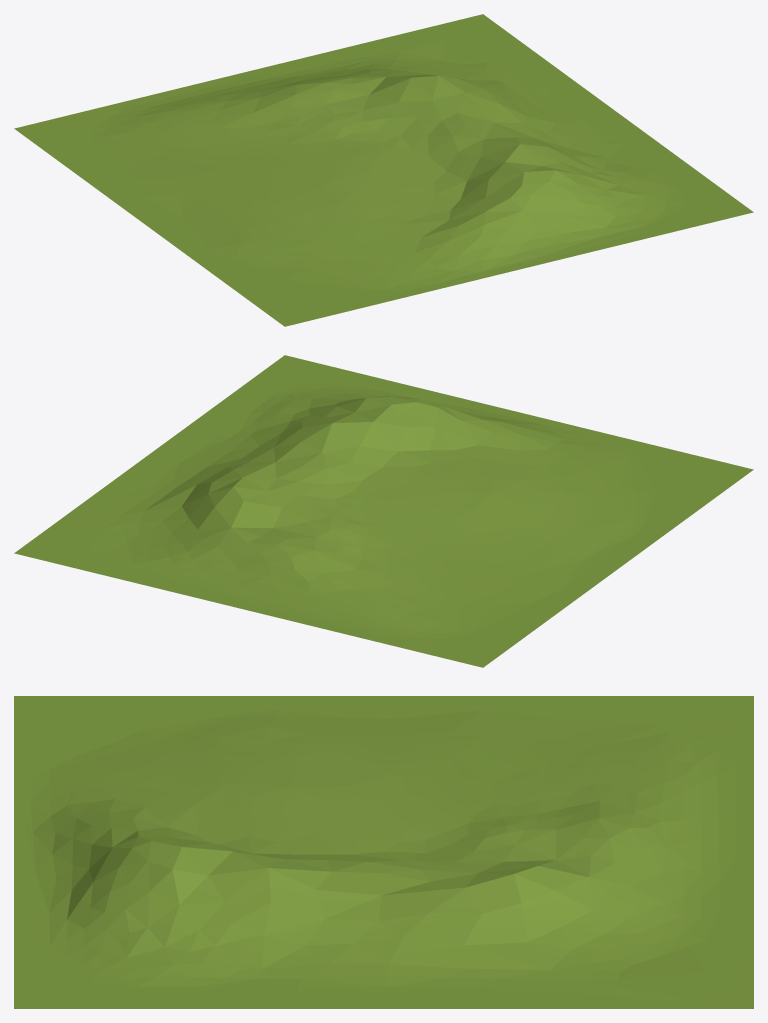
File: Mesh_Landscape_Terrain_07.FBX
The picture shows the model from 3 angles, top to bottom: view 1: azimuth 30°, elevation 25°; view 2: azimuth 150°, elevation 25°; view 3: azimuth 270°, elevation 25°; orthographic projection. The views are drawn at different scales.
Visible parts, largest first — view 1: Mesh_Landscape_Terrain_07; view 2: Mesh_Landscape_Terrain_07; view 3: Mesh_Landscape_Terrain_07.
Boxes of the visible parts, <box> form: Mesh_Landscape_Terrain_07: <box>14,14,753,326</box>; Mesh_Landscape_Terrain_07: <box>14,355,753,667</box>; Mesh_Landscape_Terrain_07: <box>14,696,753,1008</box>.
Size of the model in its own units: 12800 by 12800 by 976.
